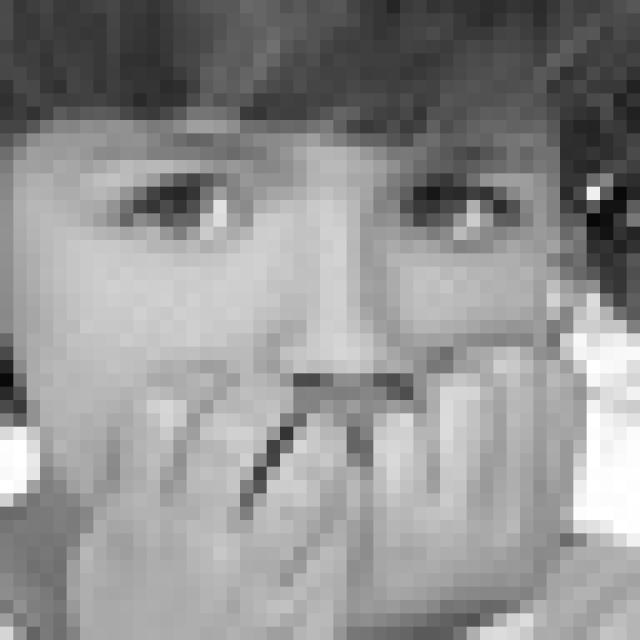fear: (75, 120, 563, 516)
